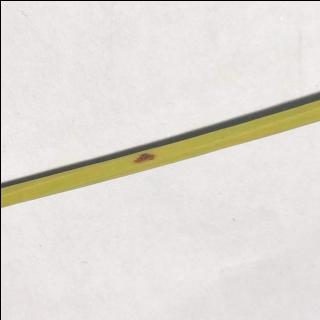Blast: (124, 140, 167, 173)
